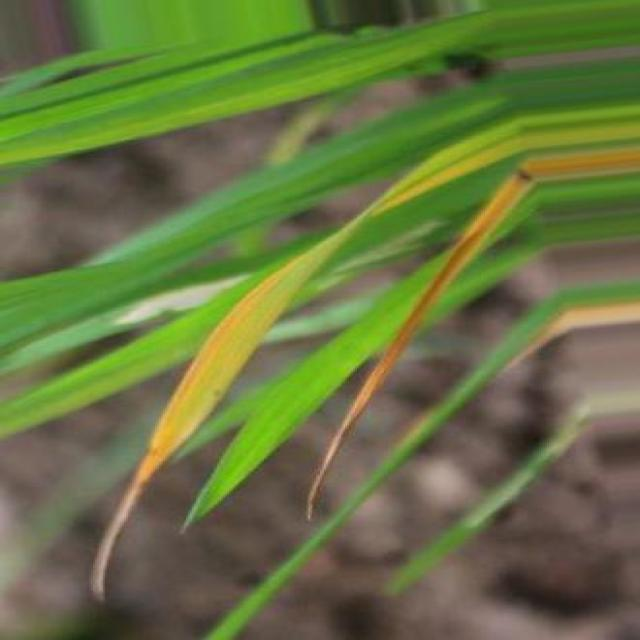Rice Tungro: (92, 213, 366, 601), (307, 171, 533, 518), (531, 302, 640, 348)
